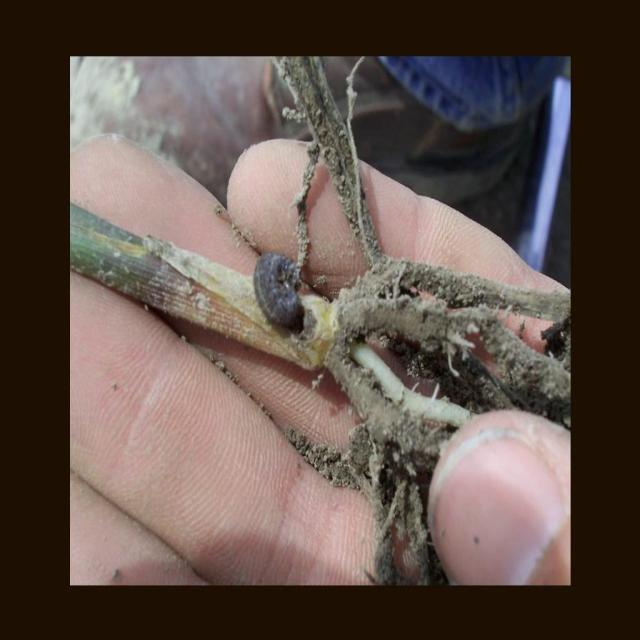black cutworm: (250, 251, 312, 333)
